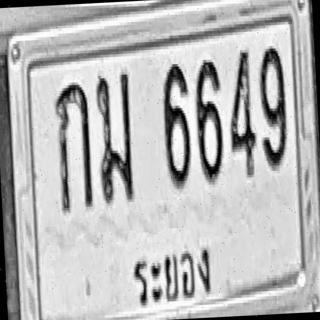A01: (53, 80, 94, 212)
A33: (94, 69, 135, 204)
N04: (226, 49, 258, 177)
N06: (160, 60, 192, 188), (193, 57, 225, 183)
N09: (257, 46, 289, 169)
P53: (128, 239, 214, 306)
